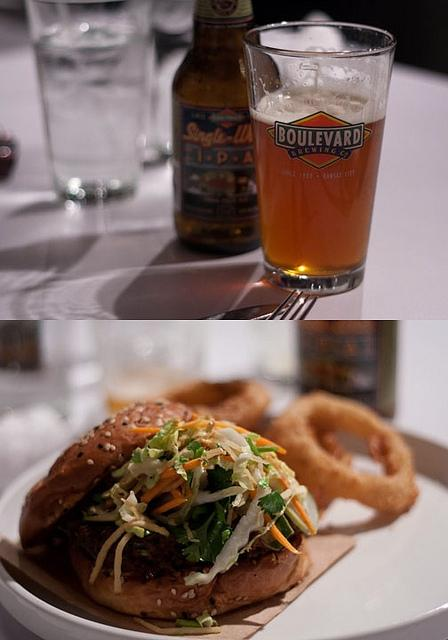carrot: (190, 420, 286, 454), (278, 476, 316, 538), (264, 512, 302, 554), (140, 474, 182, 503), (129, 420, 202, 434), (160, 458, 204, 478), (150, 498, 188, 516)
onion: (262, 390, 416, 508), (156, 380, 269, 429)
